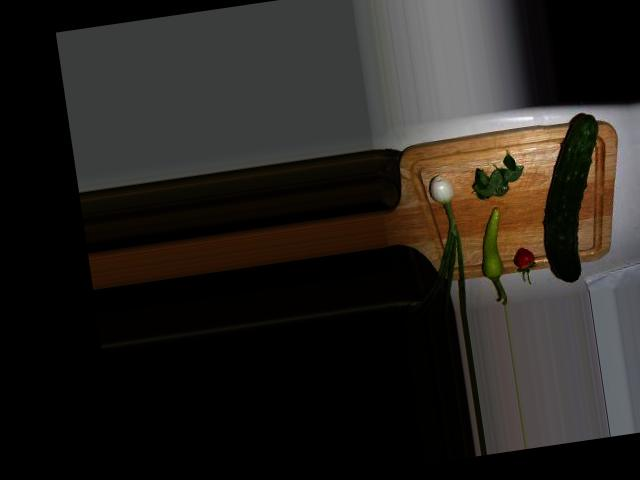cucumber: (528, 113, 619, 284)
